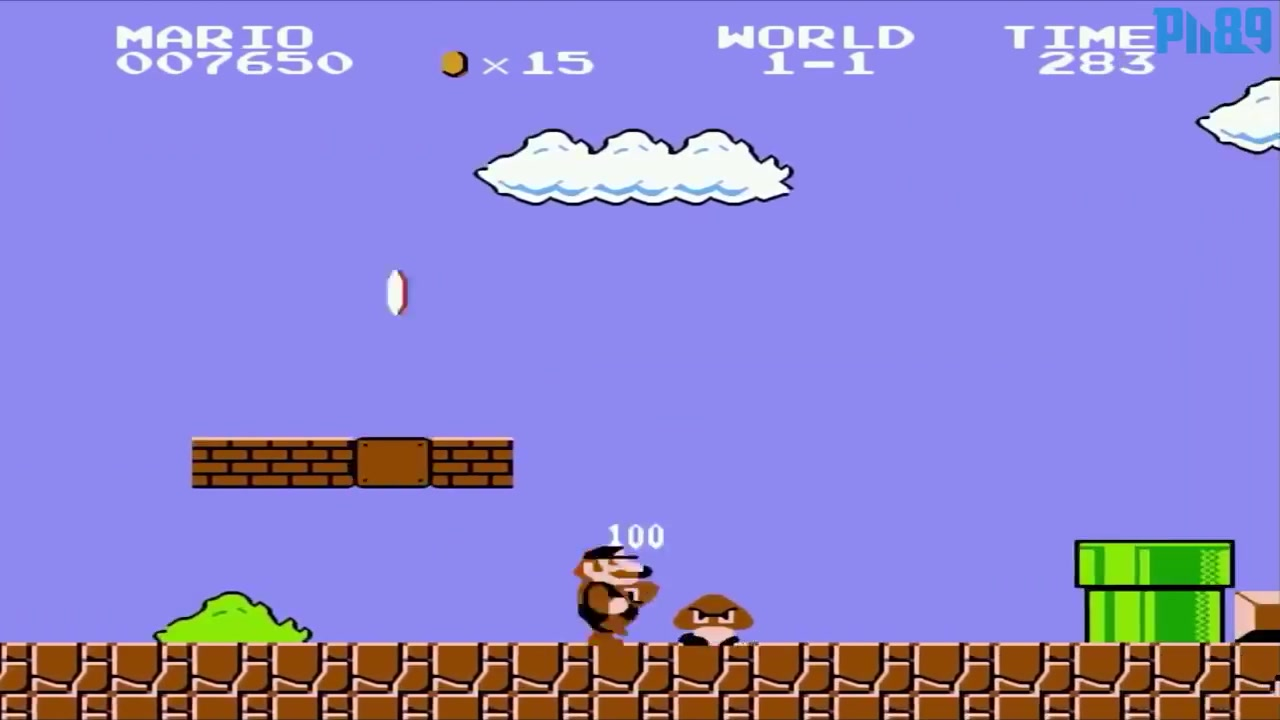mario: (564, 527, 648, 645)
